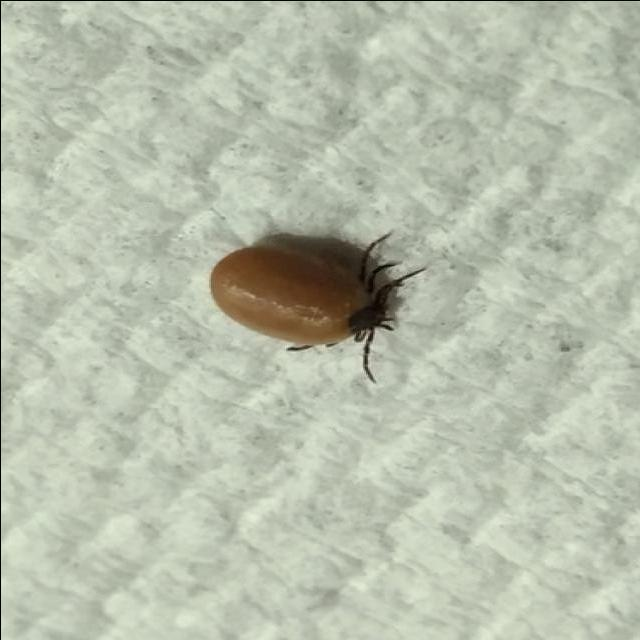Ixodes Ricinus-F-Fed: (208, 234, 408, 379)
